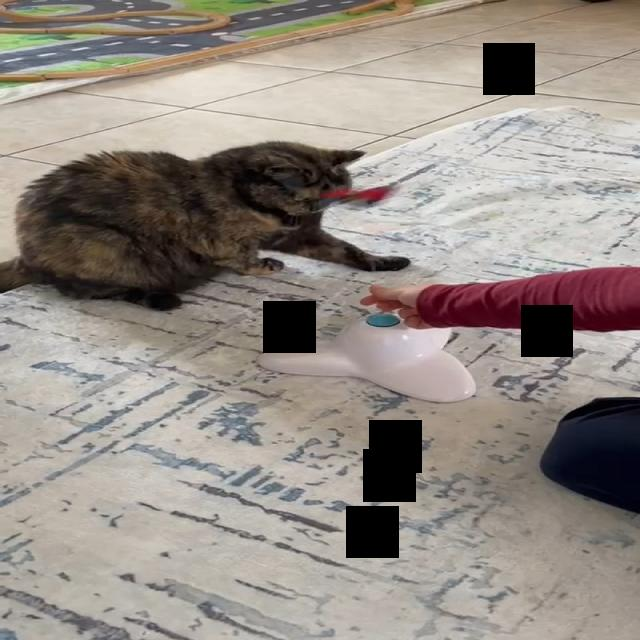authorized: (0, 139, 409, 312)
